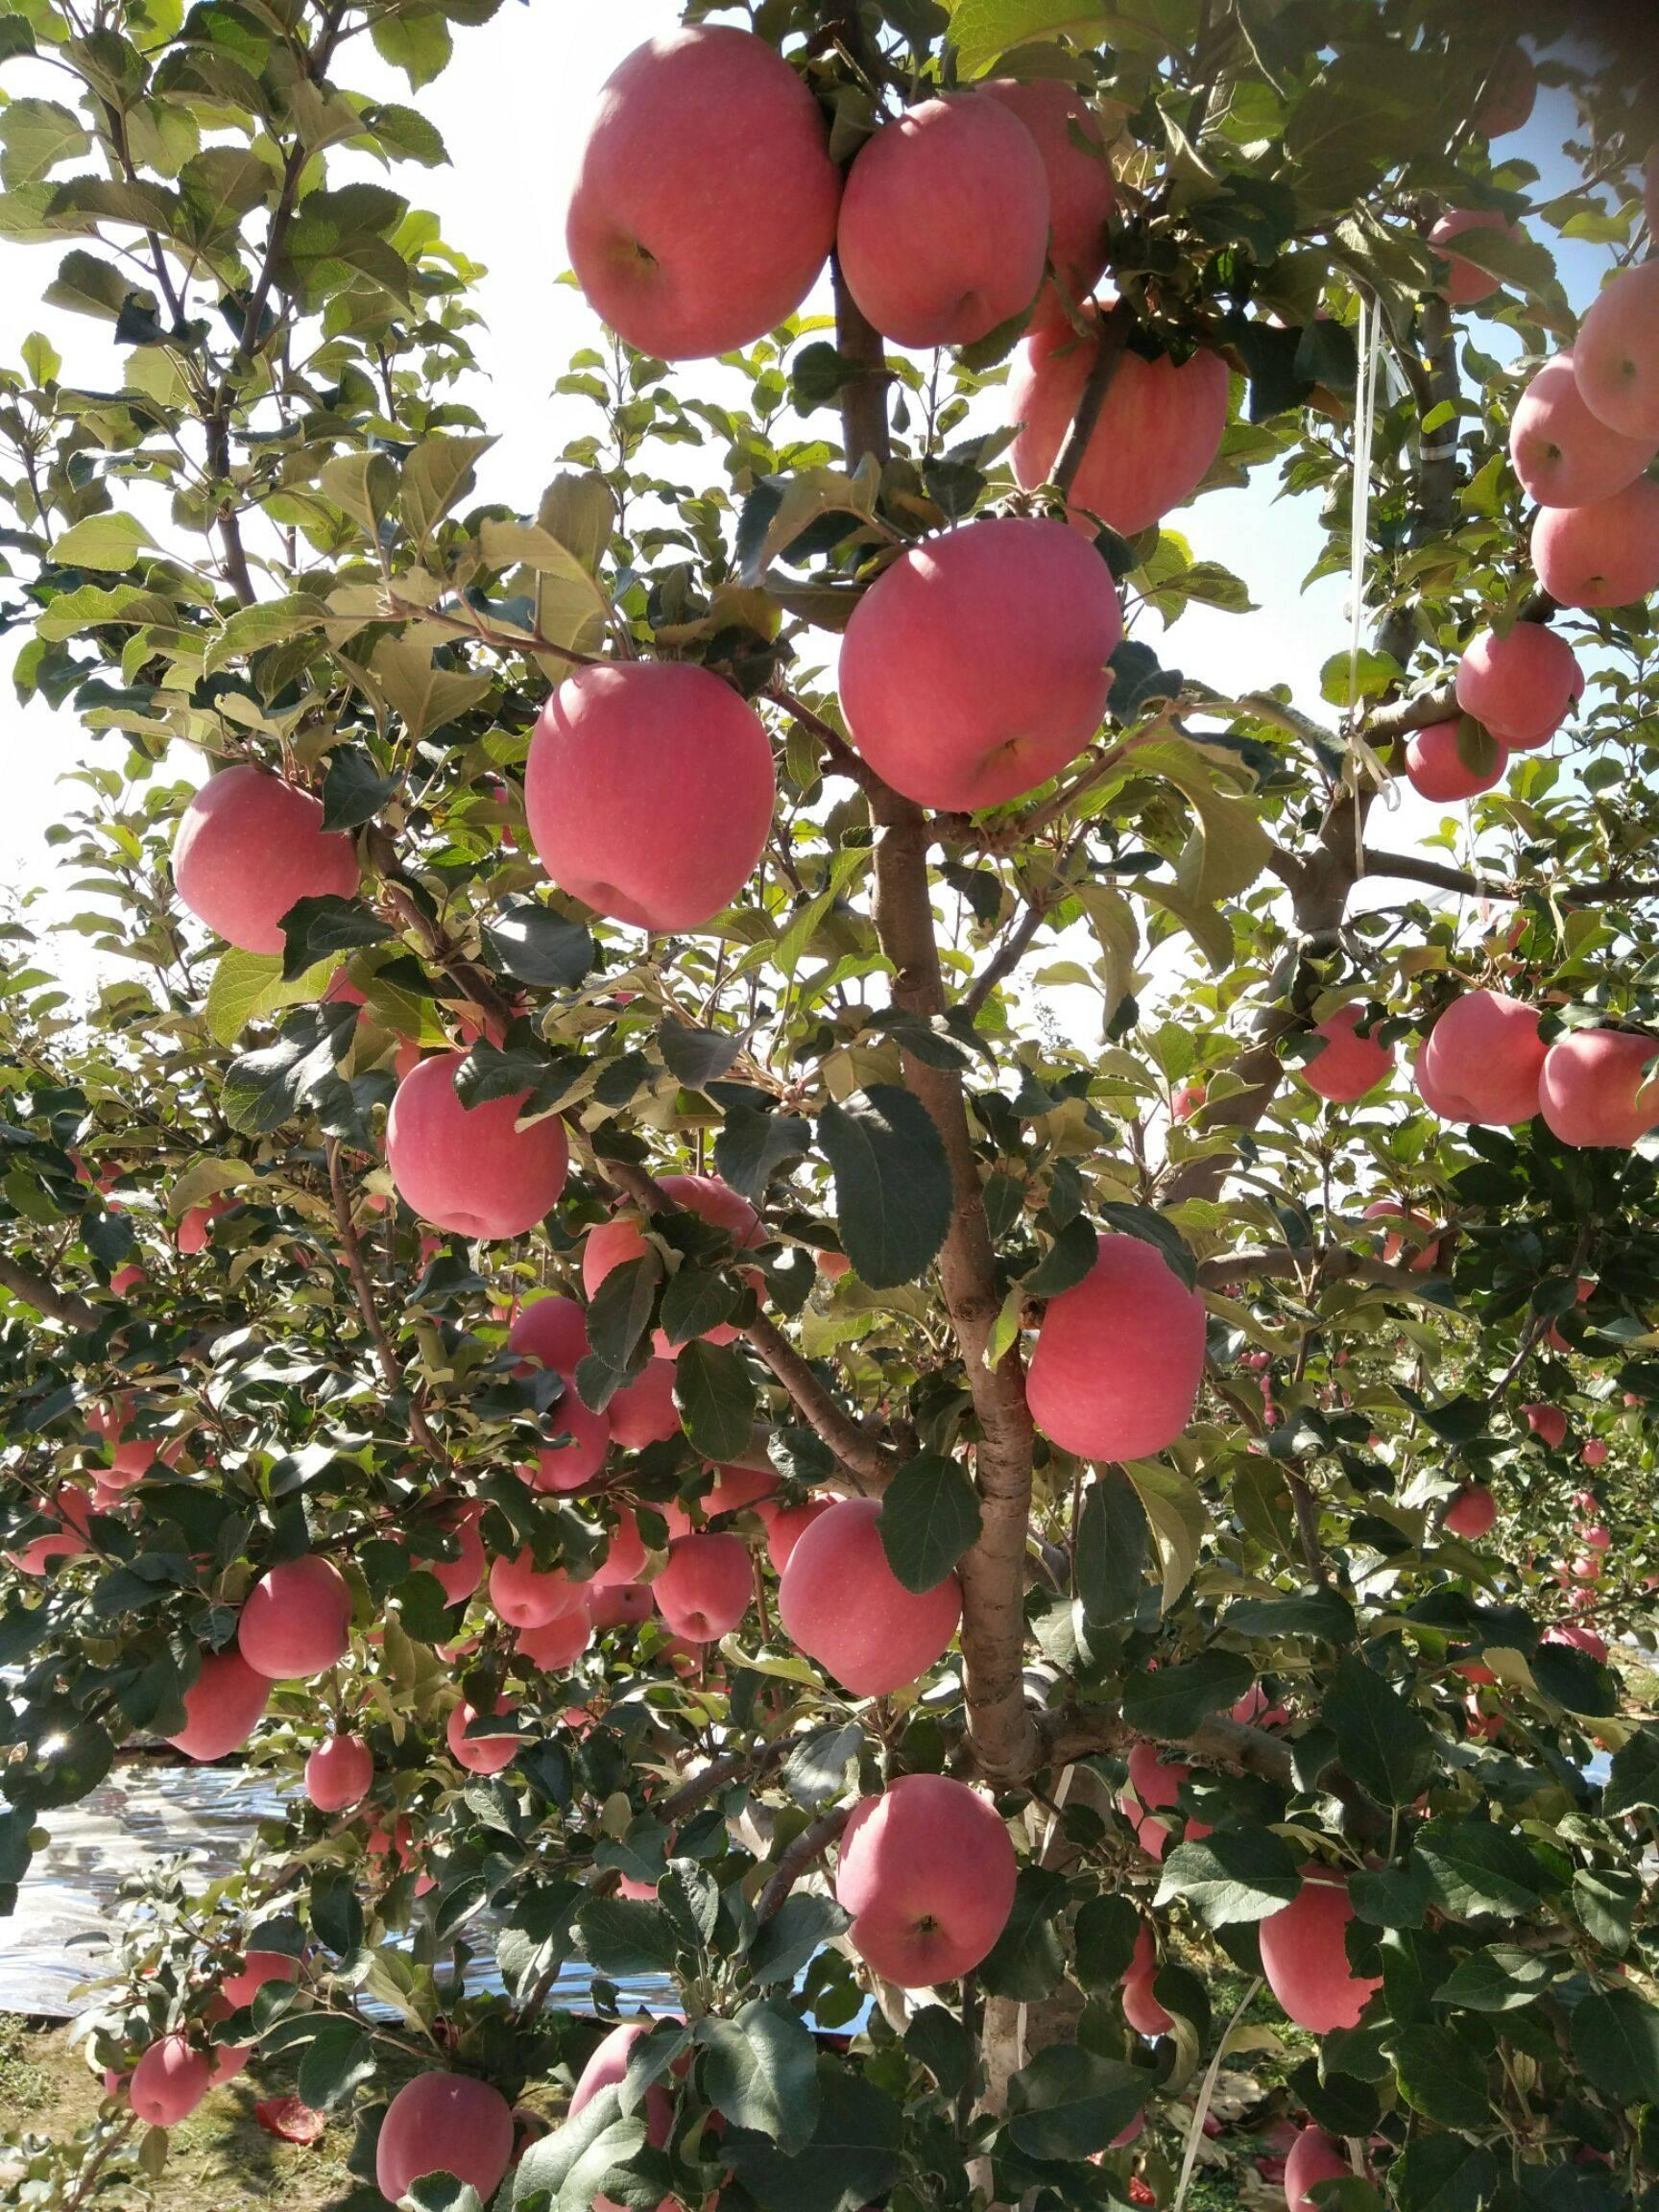apple: (563, 21, 836, 362), (835, 521, 1124, 822), (511, 657, 775, 939), (828, 85, 1049, 352), (1023, 1221, 1202, 1467), (831, 1771, 1016, 1994), (383, 1043, 568, 1244), (777, 1493, 957, 1698), (978, 78, 1115, 338), (173, 759, 354, 951), (1511, 350, 1649, 521), (1439, 617, 1577, 770), (369, 2066, 511, 2212), (1417, 986, 1551, 1123), (1401, 667, 1535, 803), (1256, 1878, 1368, 2031), (1534, 1024, 1657, 1148), (234, 1552, 350, 1683), (1293, 1000, 1391, 1106), (1403, 712, 1504, 803), (125, 2033, 213, 2127), (1443, 1482, 1493, 1540)
